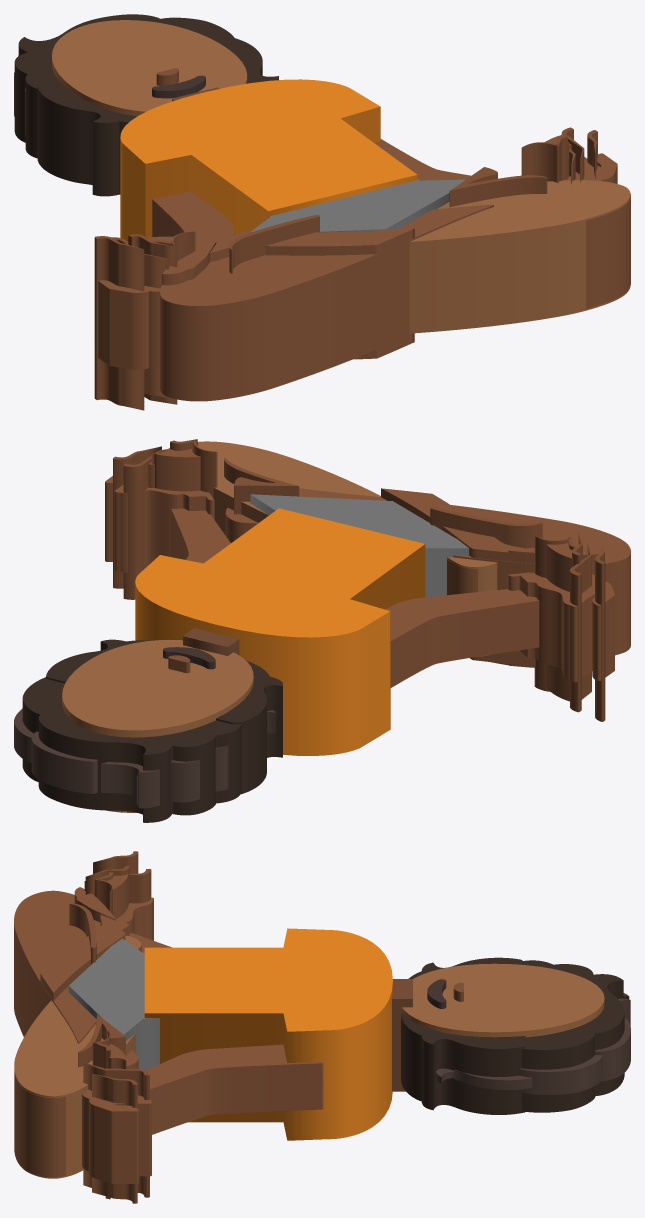
The model's file is emoji_u1f9d8_1f3fe.glb.
3 views of the same model, one above another, from view 1: azimuth 30°, elevation 25°; view 2: azimuth 150°, elevation 25°; view 3: azimuth 270°, elevation 25° (orthographic). The views are drawn at different scales.
Visible parts, largest first — view 1: emoji_u1f9d8_1f3fe; view 2: emoji_u1f9d8_1f3fe; view 3: emoji_u1f9d8_1f3fe.
Part boxes in pixels (x1,y1,x2,y2): emoji_u1f9d8_1f3fe: [14, 14, 630, 410]; emoji_u1f9d8_1f3fe: [14, 439, 630, 822]; emoji_u1f9d8_1f3fe: [14, 851, 630, 1203].
Bounding box in the file's own units: 0.029 × 0.009 × 0.0339.
